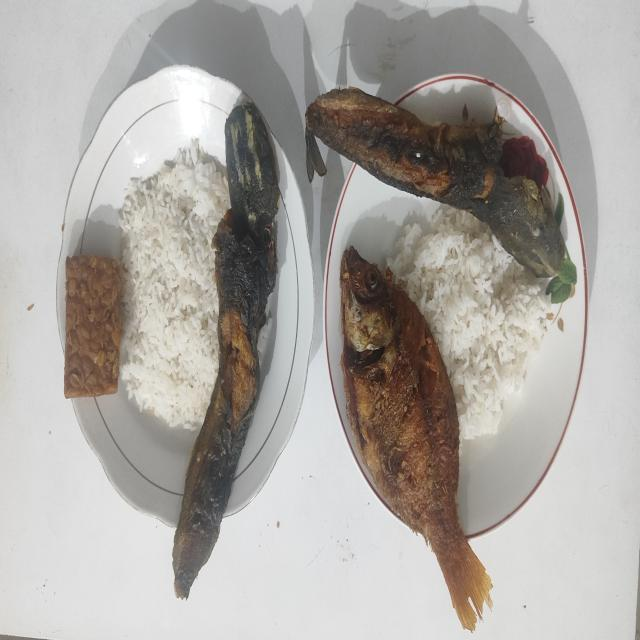ikan_mujair: (340, 246, 492, 631)
nasi_putih: (385, 209, 552, 440), (120, 140, 230, 430)
tempe_goreng: (64, 254, 122, 398)
